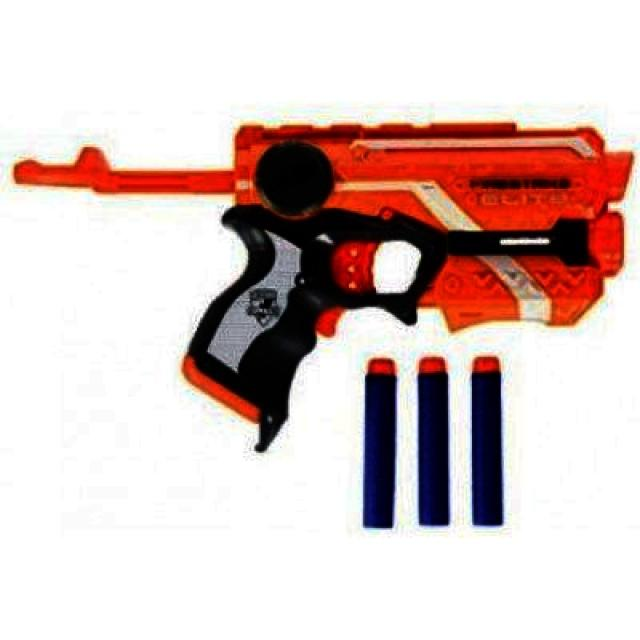Nerf gun: (6, 110, 634, 443)
